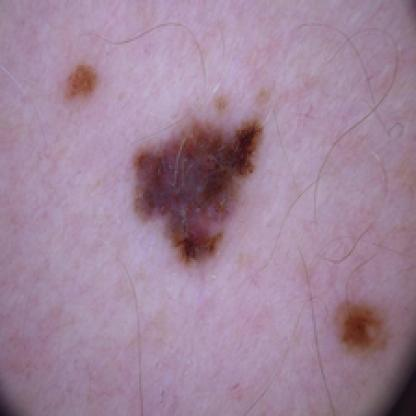Skin_Cancer-Malignant: (132, 115, 266, 266)
